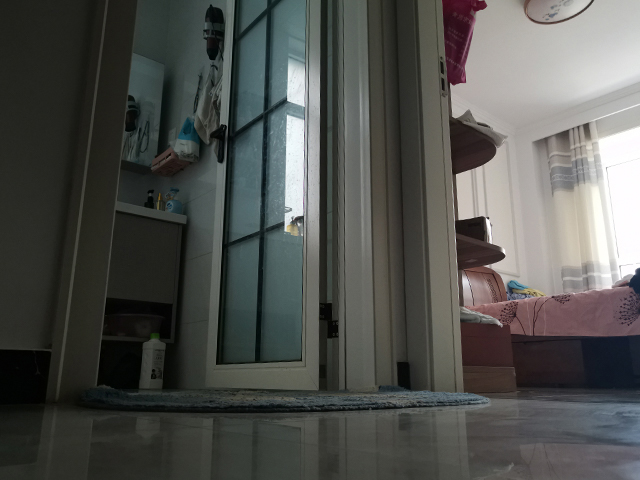bed: (456, 265, 639, 390)
carpet: (74, 384, 493, 415)
curtain: (542, 121, 623, 292)
